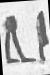W25: (2, 0, 48, 74)
